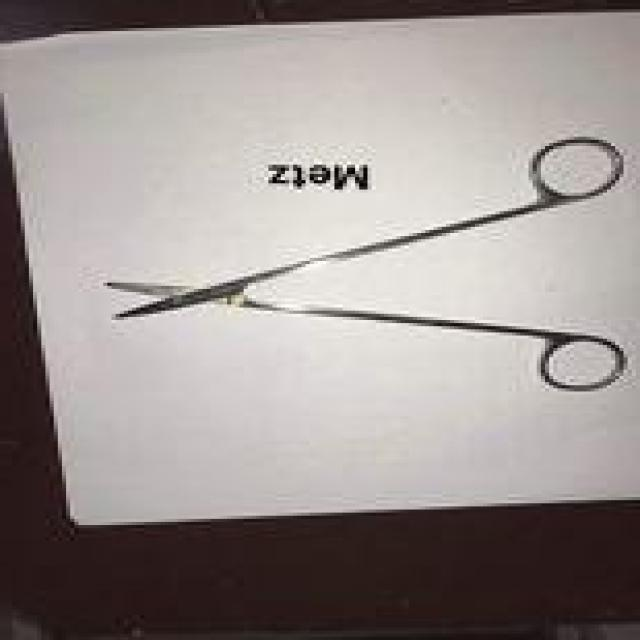Mayo_metz: (99, 133, 628, 394)
